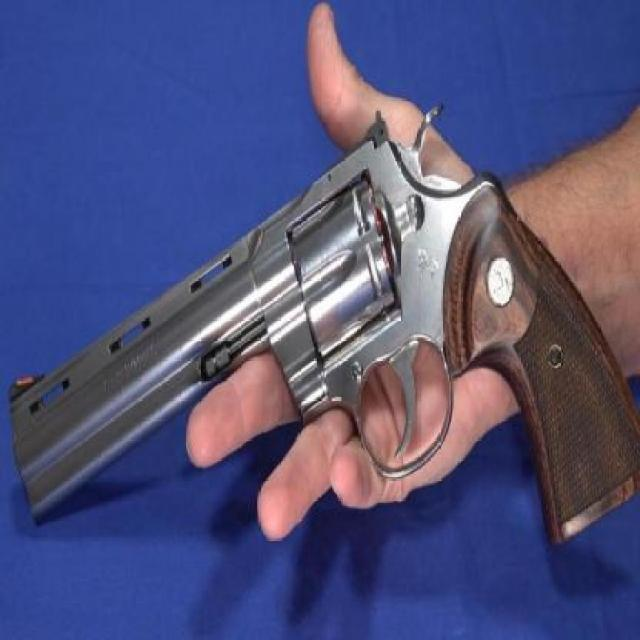gun: (11, 86, 640, 560)
